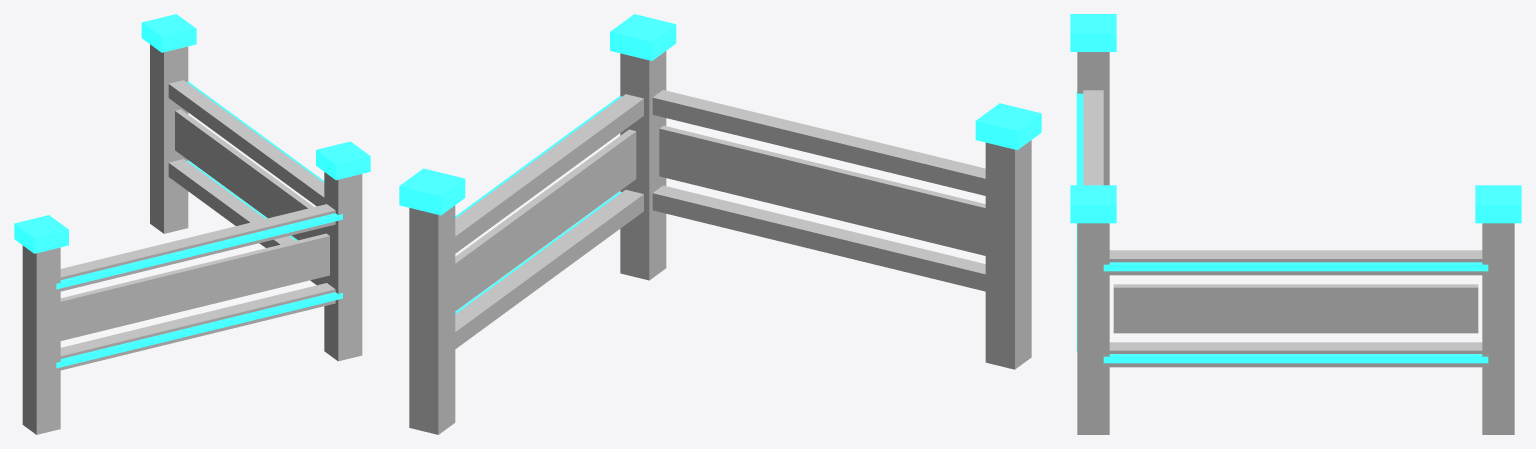
3 renders of one model, left to right at view 1: azimuth 30°, elevation 25°; view 2: azimuth 150°, elevation 25°; view 3: azimuth 270°, elevation 25°, orthographic. The views are drawn at different scales.
Visible parts, largest first — view 1: Neon_FenceCorner_Standard; view 2: Neon_FenceCorner_Standard; view 3: Neon_FenceCorner_Standard.
Part boxes in pixels (bbox=[...]): Neon_FenceCorner_Standard: bbox=[14, 14, 370, 434]; Neon_FenceCorner_Standard: bbox=[399, 14, 1041, 434]; Neon_FenceCorner_Standard: bbox=[1070, 14, 1521, 434].
Size of the model in its own units: 2.23 by 1.27 by 2.23.
